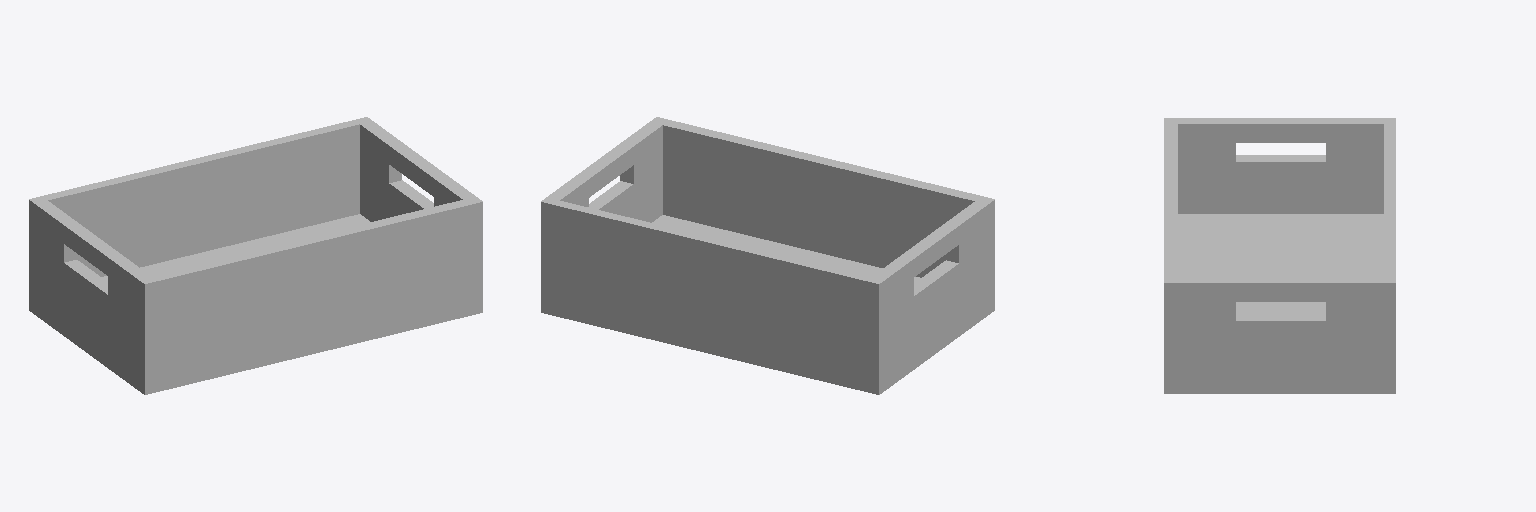
The model's file is crate_4.obj.
The picture shows the model from 3 angles: view 1: azimuth 30°, elevation 25°; view 2: azimuth 150°, elevation 25°; view 3: azimuth 270°, elevation 25°; orthographic projection.
Parts seen in each view (by area): view 1: crate5_crate5_0; view 2: crate5_crate5_0; view 3: crate5_crate5_0.
Part boxes in pixels (bbox=[...]): crate5_crate5_0: bbox=[29, 117, 482, 394]; crate5_crate5_0: bbox=[541, 117, 994, 394]; crate5_crate5_0: bbox=[1164, 118, 1395, 393].
Size of the model in its own units: 1.08 by 0.3393 by 0.6437.